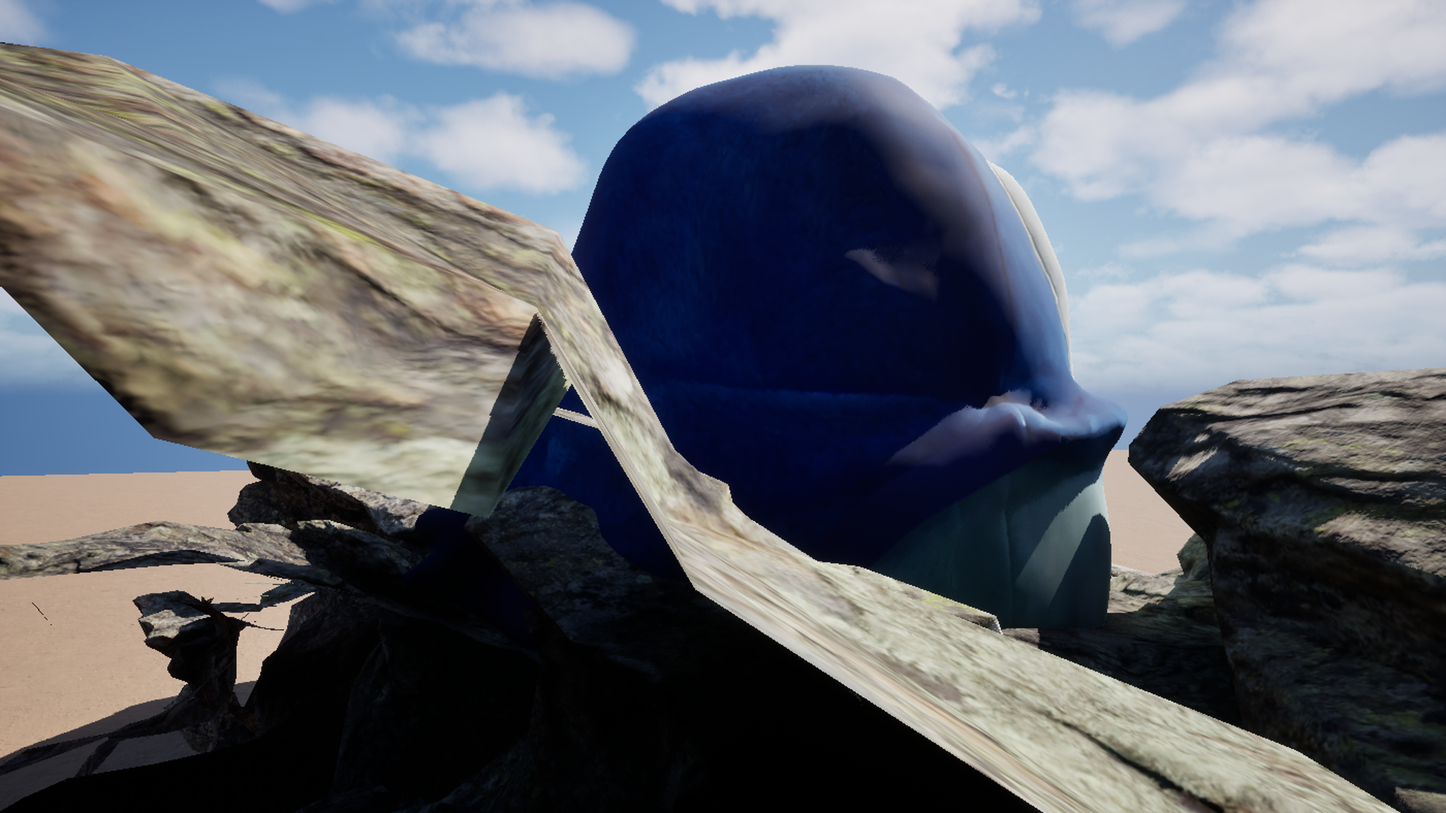Piplup: (326, 0, 1273, 813)
